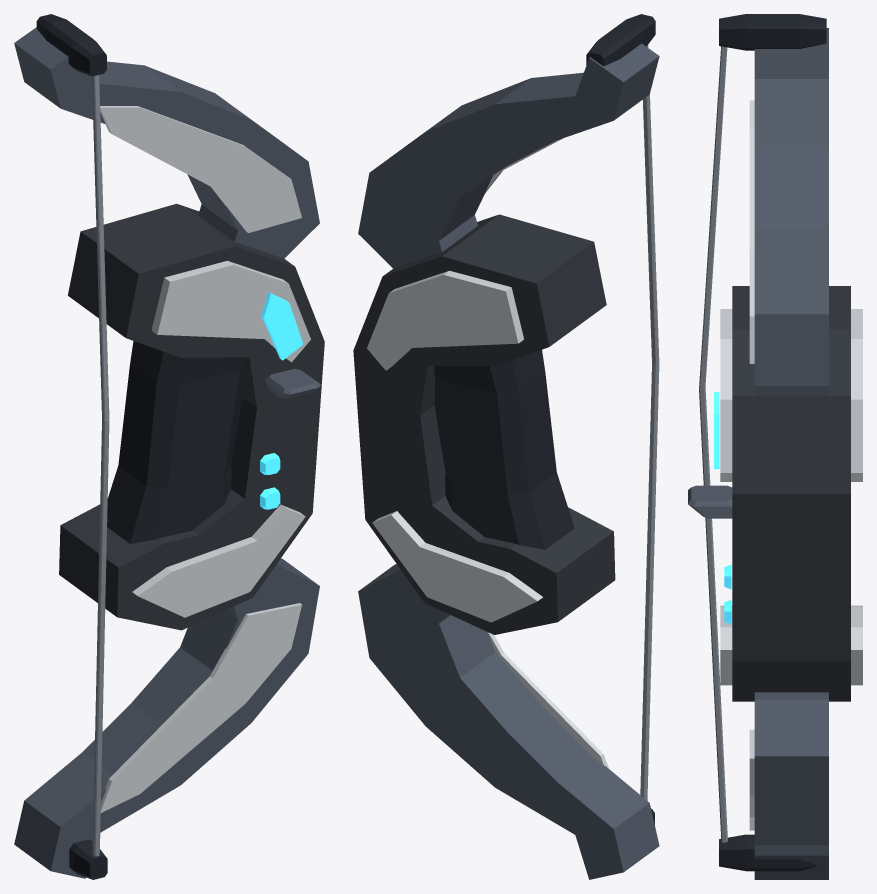
Rendered from Recon.fbx.
The picture shows the model from 3 angles, left to right: view 1: azimuth 30°, elevation 25°; view 2: azimuth 150°, elevation 25°; view 3: azimuth 270°, elevation 25°; orthographic projection. The views are drawn at different scales.
Visible parts, largest first — view 1: Riser, LowerLimb, Grip, UpperLimb, LowerLimbPlate, UpperLimbPlate, UpperPlate_Right, LowerPlate_Right, StringLowerSegment, StringUpperSegment, UpperStringTip, Charge_Energy (+2 smaller); view 2: Riser, LowerLimb, UpperLimb, Grip, UpperPlate_Left, LowerPlate_Left, StringLowerSegment, StringUpperSegment, UpperStringTip, LowerLimbPlate; view 3: Riser, UpperLimb, LowerLimb, UpperStringTip, StringLowerSegment, StringUpperSegment, UpperPlate_Right, UpperPlate_Left, LowerStringTip, UpperLimbPlate, BoltRest, LowerPlate_Left (+3 smaller).
Boxes of the visible parts, x1=… form: Riser: x1=59, y1=203, x2=324, y2=630; LowerLimb: x1=14, y1=558, x2=319, y2=878; Grip: x1=107, y1=341, x2=242, y2=543; UpperLimb: x1=14, y1=27, x2=319, y2=258; LowerLimbPlate: x1=100, y1=603, x2=301, y2=812; UpperLimbPlate: x1=100, y1=106, x2=301, y2=232; UpperPlate_Right: x1=151, y1=260, x2=310, y2=362; LowerPlate_Right: x1=132, y1=504, x2=305, y2=617; StringLowerSegment: x1=92, y1=419, x2=109, y2=856; StringUpperSegment: x1=92, y1=75, x2=109, y2=420; UpperStringTip: x1=36, y1=14, x2=106, y2=76; Charge_Energy: x1=261, y1=292, x2=303, y2=360; Riser: x1=353, y1=214, x2=615, y2=634; LowerLimb: x1=358, y1=564, x2=659, y2=879; UpperLimb: x1=358, y1=43, x2=659, y2=268; Grip: x1=434, y1=350, x2=574, y2=549; UpperPlate_Left: x1=367, y1=270, x2=523, y2=370; LowerPlate_Left: x1=372, y1=511, x2=542, y2=622; StringLowerSegment: x1=640, y1=364, x2=659, y2=800; StringUpperSegment: x1=643, y1=44, x2=659, y2=365; UpperStringTip: x1=586, y1=14, x2=655, y2=66; LowerLimbPlate: x1=487, y1=632, x2=608, y2=768; Riser: x1=732, y1=286, x2=850, y2=701; UpperLimb: x1=754, y1=28, x2=828, y2=395; LowerLimb: x1=754, y1=692, x2=828, y2=879; UpperStringTip: x1=719, y1=14, x2=826, y2=50; StringLowerSegment: x1=699, y1=387, x2=727, y2=842; StringUpperSegment: x1=699, y1=46, x2=727, y2=389; UpperPlate_Right: x1=720, y1=309, x2=732, y2=481; UpperPlate_Left: x1=851, y1=309, x2=862, y2=481; LowerStringTip: x1=719, y1=834, x2=818, y2=871; UpperLimbPlate: x1=749, y1=100, x2=754, y2=363; BoltRest: x1=688, y1=485, x2=732, y2=518; LowerPlate_Left: x1=851, y1=605, x2=862, y2=685.
Bounding box in the file's own units: 0.401 × 1.2 × 0.221.
